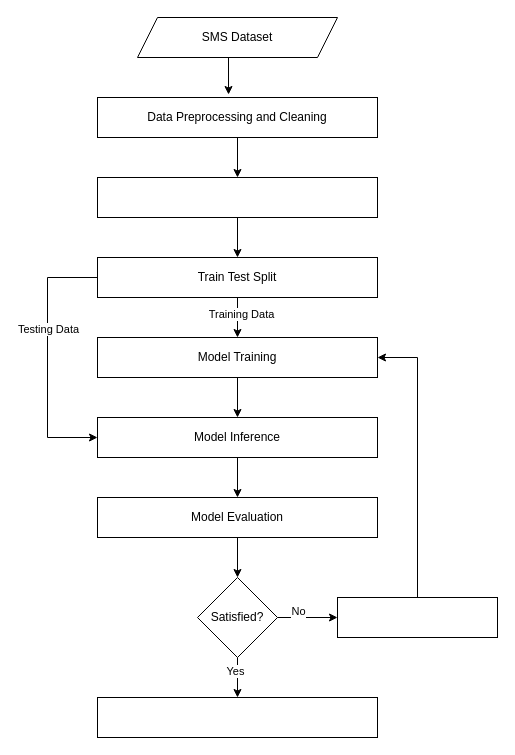
Some shapes in this 515 by 755 pixel diagram are drawn without their labels. Each missing label, with the box of its shape:
Feature Extraction: (96, 176, 378, 218)
Model Storage: (96, 696, 378, 738)
Modify Parameters: (336, 596, 498, 638)
